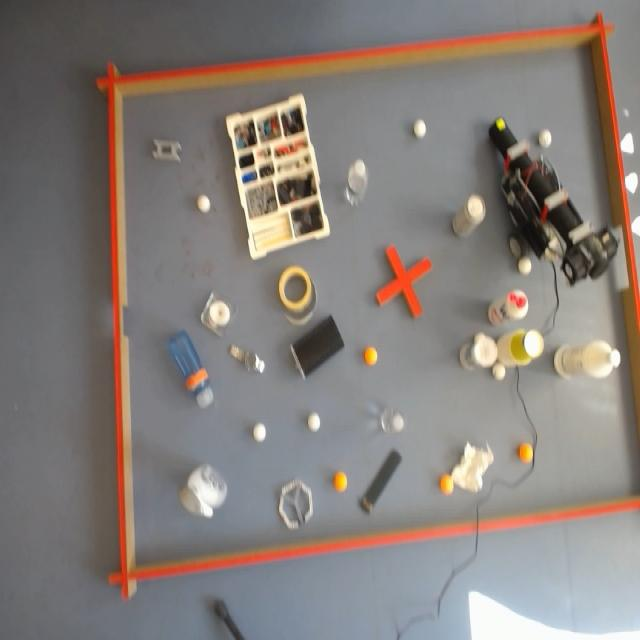orange: (518, 442, 532, 463), (442, 471, 454, 494), (334, 471, 347, 492), (440, 473, 452, 495), (365, 347, 377, 365)
robot: (488, 117, 618, 287)
robot-front: (494, 117, 507, 135)
white: (251, 422, 268, 445), (492, 363, 504, 381), (198, 195, 210, 213), (538, 130, 550, 148), (415, 119, 426, 137), (308, 415, 320, 431), (520, 258, 532, 273)
